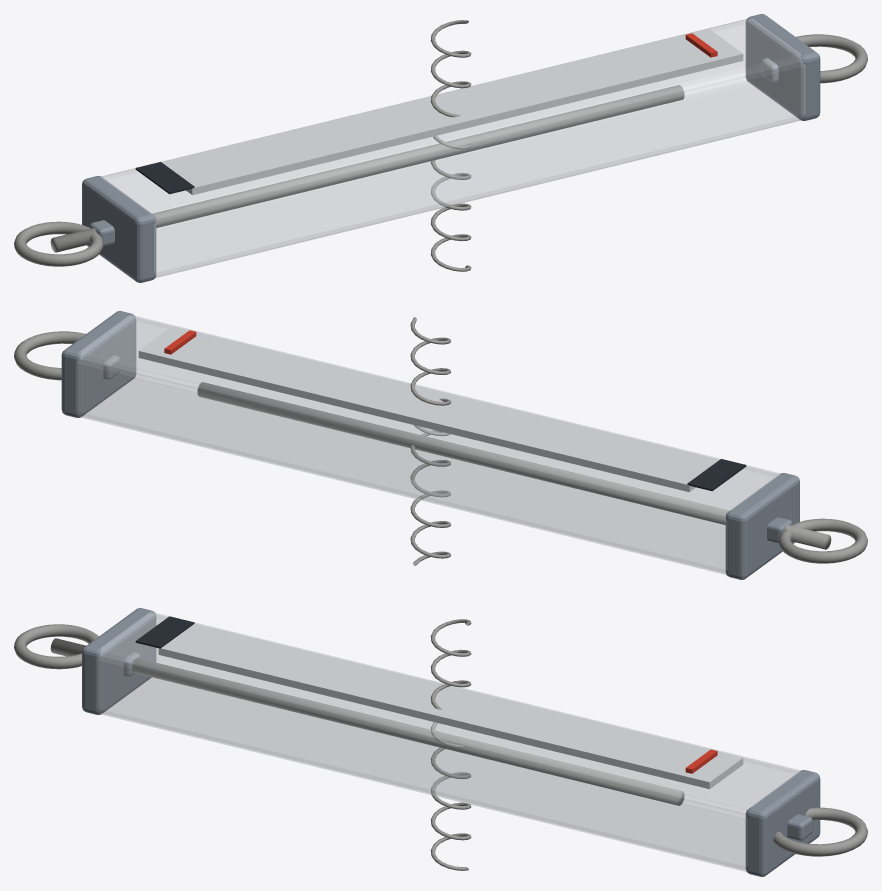
The model's file is spring_scale.glb.
3 renders of one model, top to bottom at view 1: azimuth 30°, elevation 25°; view 2: azimuth 150°, elevation 25°; view 3: azimuth 330°, elevation 25°, orthographic.
Parts seen in each view (by area): view 1: shell, face, rod, cap_right, cap_left, inner_spring, hook_ring, top_ring, face_mark; view 2: shell, face, rod, cap_right, cap_left, inner_spring, hook_ring, top_ring, face_mark; view 3: shell, face, rod, cap_left, cap_right, inner_spring, top_ring, hook_ring, face_mark, ring_neck.
Part boxes in pixels (x1,y1,x2,y2): shell: [101, 18, 805, 277]; face: [162, 29, 743, 195]; rod: [50, 85, 684, 252]; cap_right: [745, 14, 820, 120]; cap_left: [82, 176, 156, 282]; inner_spring: [430, 20, 471, 271]; hook_ring: [14, 221, 103, 266]; top_ring: [796, 34, 867, 83]; face_mark: [135, 162, 194, 194]; shell: [76, 315, 780, 574]; face: [138, 326, 719, 492]; rod: [197, 382, 831, 549]; cap_right: [61, 311, 136, 417]; cap_left: [725, 473, 799, 579]; inner_spring: [410, 317, 451, 565]; hook_ring: [778, 518, 867, 563]; top_ring: [14, 331, 85, 380]; face_mark: [687, 459, 746, 491]; shell: [96, 612, 800, 871]; face: [158, 623, 743, 789]; rod: [50, 638, 684, 805]; cap_left: [82, 608, 156, 714]; cap_right: [745, 770, 820, 876]; inner_spring: [430, 619, 471, 870]; top_ring: [773, 807, 867, 856]; hook_ring: [14, 624, 98, 669]; face_mark: [135, 616, 194, 648]; ring_neck: [787, 814, 812, 840].
Size of the model in its own units: 0.2016 by 0.0569 by 0.024.
